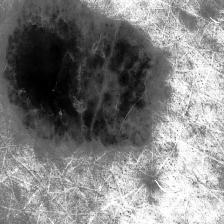Benign Marking or Mole: (1, 0, 166, 148)
